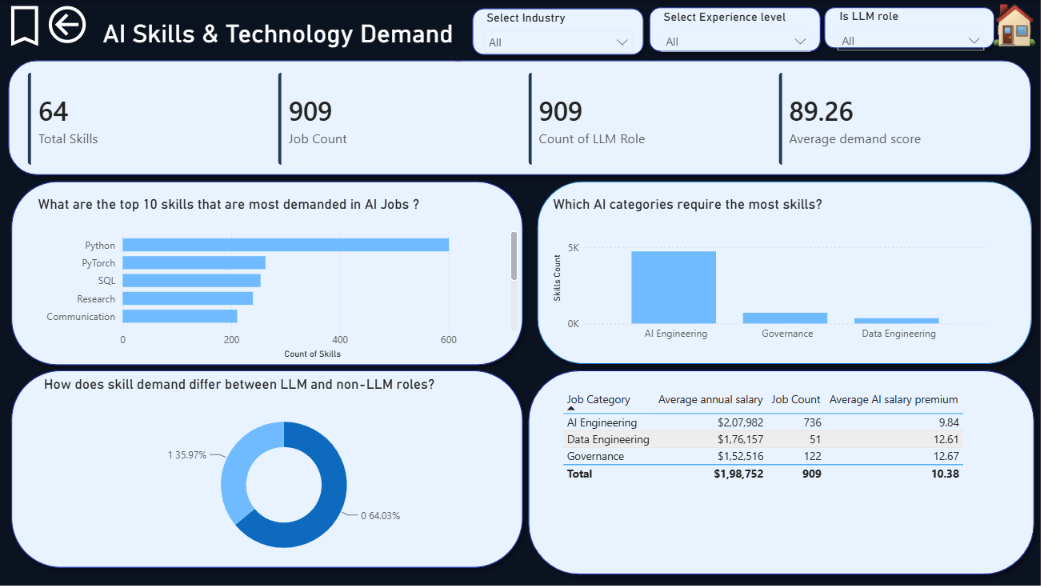

Layout of this report page (visuals, bound fields, positions):
{"tool":"powerbi","page":{"name":"AI Skills & Technology Demand","canvas":[1280,720],"ordinal":3},"visuals":[{"type":"group","id":"g1","title":"Background","box":[1.4,-0.3,1277.2,714.4],"z":0},{"type":"shape","box":[1.4,64.4,1273,158.6],"z":0,"group":"g1"},{"type":"shape","box":[5.6,213.3,645.6,243.5],"z":1000,"group":"g1"},{"type":"clusteredBarChart","title":"What are the top 10 skills that are most demanded in AI Jobs ?","fields":{"Category":["AI_data_jobs_skills.Skills"],"Y":["CountNonNull(AI_data_jobs_skills.Skills)"]},"box":[41.7,240.7,598.3,204.5],"z":1000},{"type":"shape","box":[650.6,213,624.7,242.1],"z":2000,"group":"g1"},{"type":"clusteredColumnChart","title":"Which AI categories require the most skills?","fields":{"Category":["AI_data_jobs.job_category"],"Y":["CountNonNull(AI_data_jobs_skills.Skills)"]},"box":[673.4,240.7,544,186.4],"z":2000},{"type":"shape","box":[5.6,445.6,645.6,260.2],"z":3000,"group":"g1"},{"type":"donutChart","title":"How does skill demand differ between LLM and non-LLM roles?","fields":{"Category":["AI_data_jobs.is_llm_role"],"Y":["CountNonNull(AI_data_jobs.job_id)"]},"box":[49.2,461.3,598.8,236.8],"z":3000},{"type":"textbox","title":"AI Skills & Technology Demand","box":[109.9,18.1,461.4,61.4],"z":4000},{"type":"shape","box":[640,445.6,638.6,268.5],"z":4000,"group":"g1"},{"type":"shape","box":[571.3,0.8,228.2,75.1],"z":5000,"group":"g1"},{"type":"tableEx","fields":{"Values":["AI_data_jobs_company.job_category","Avg(AI_data_jobs_company.annual_salary_usd)","CountNonNull(AI_data_jobs.job_id)","AI_data_jobs.ai_salary_premium_pct"]},"box":[684.5,473,557.9,205.9],"z":5000},{"type":"shape","box":[788.3,-0.3,228.2,72.3],"z":6000,"group":"g1"},{"type":"slicer","fields":{"Values":["AI_data_jobs.industry"]},"box":[584.3,8.3,201.7,61.2],"z":6000},{"type":"shape","box":[1002.6,0.1,226.8,68.2],"z":7000,"group":"g1"},{"type":"slicer","fields":{"Values":["AI_data_jobs_experience.experience_level"]},"box":[801.4,7,203.1,61.2],"z":7000},{"type":"slicer","fields":{"Values":["AI_data_jobs.is_llm_role"]},"box":[1017,5.6,200.3,55.7],"z":8000},{"type":"cardVisual","fields":{"Data":["Count(AI_data_jobs_skills.Skills)","CountNonNull(AI_data_jobs_experience.job_id)","CountNonNull(AI_data_jobs.is_llm_role)","Avg(AI_data_jobs.demand_score)"]},"box":[20.9,72.3,1255,147.5],"z":9000},{"type":"image","box":[1217.2,0,55.2,61.4],"z":10000},{"type":"actionButton","box":[53.4,0,57.1,60.8],"z":11000},{"type":"actionButton","box":[0,1.2,62.1,60.8],"z":15000}]}

Visuals, with their boxes in screenshot pixels (x1, y1, x2, y2), scaled from the page's 1280x720 canvas onto the 1041x586 screenshot:
"Background" group: box(1, 0, 1040, 581)
shape: box(1, 52, 1036, 181)
shape: box(5, 174, 530, 372)
"What are the top 10 skills that are most demanded in AI Jobs ?" clusteredBarChart: box(34, 196, 520, 362)
shape: box(529, 173, 1037, 370)
"Which AI categories require the most skills?" clusteredColumnChart: box(548, 196, 990, 348)
shape: box(5, 363, 530, 574)
"How does skill demand differ between LLM and non-LLM roles?" donutChart: box(40, 375, 527, 568)
"AI Skills & Technology Demand" textbox: box(89, 15, 465, 65)
shape: box(520, 363, 1040, 581)
shape: box(465, 1, 650, 62)
tableEx - AI_data_jobs_company.job_category x Avg(AI_data_jobs_company.annual_salary_usd): box(557, 385, 1010, 553)
shape: box(641, 0, 827, 59)
slicer - AI_data_jobs.industry: box(475, 7, 639, 57)
shape: box(815, 0, 1000, 56)
slicer - AI_data_jobs_experience.experience_level: box(652, 6, 817, 56)
slicer - AI_data_jobs.is_llm_role: box(827, 5, 990, 50)
cardVisual - Count(AI_data_jobs_skills.Skills) x CountNonNull(AI_data_jobs_experience.job_id): box(17, 59, 1038, 179)
image: box(990, 0, 1035, 50)
actionButton: box(43, 0, 90, 49)
actionButton: box(0, 1, 51, 50)
